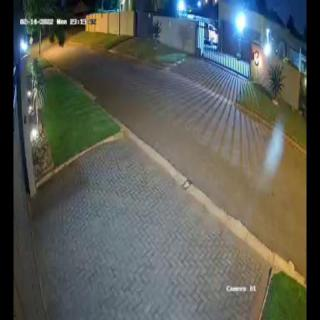car: (204, 23, 218, 44)
